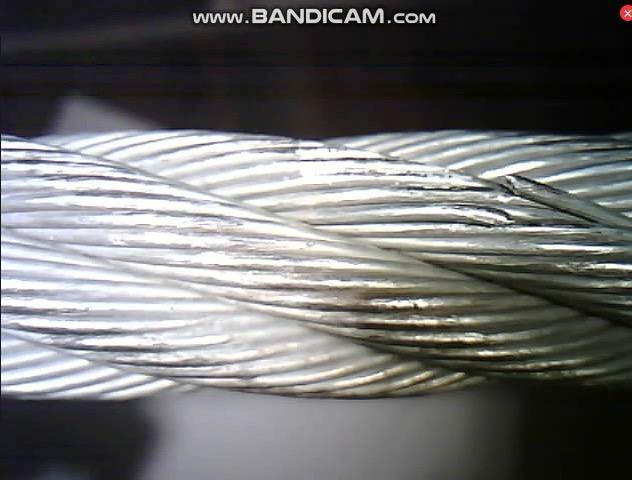break: (459, 169, 539, 235)
